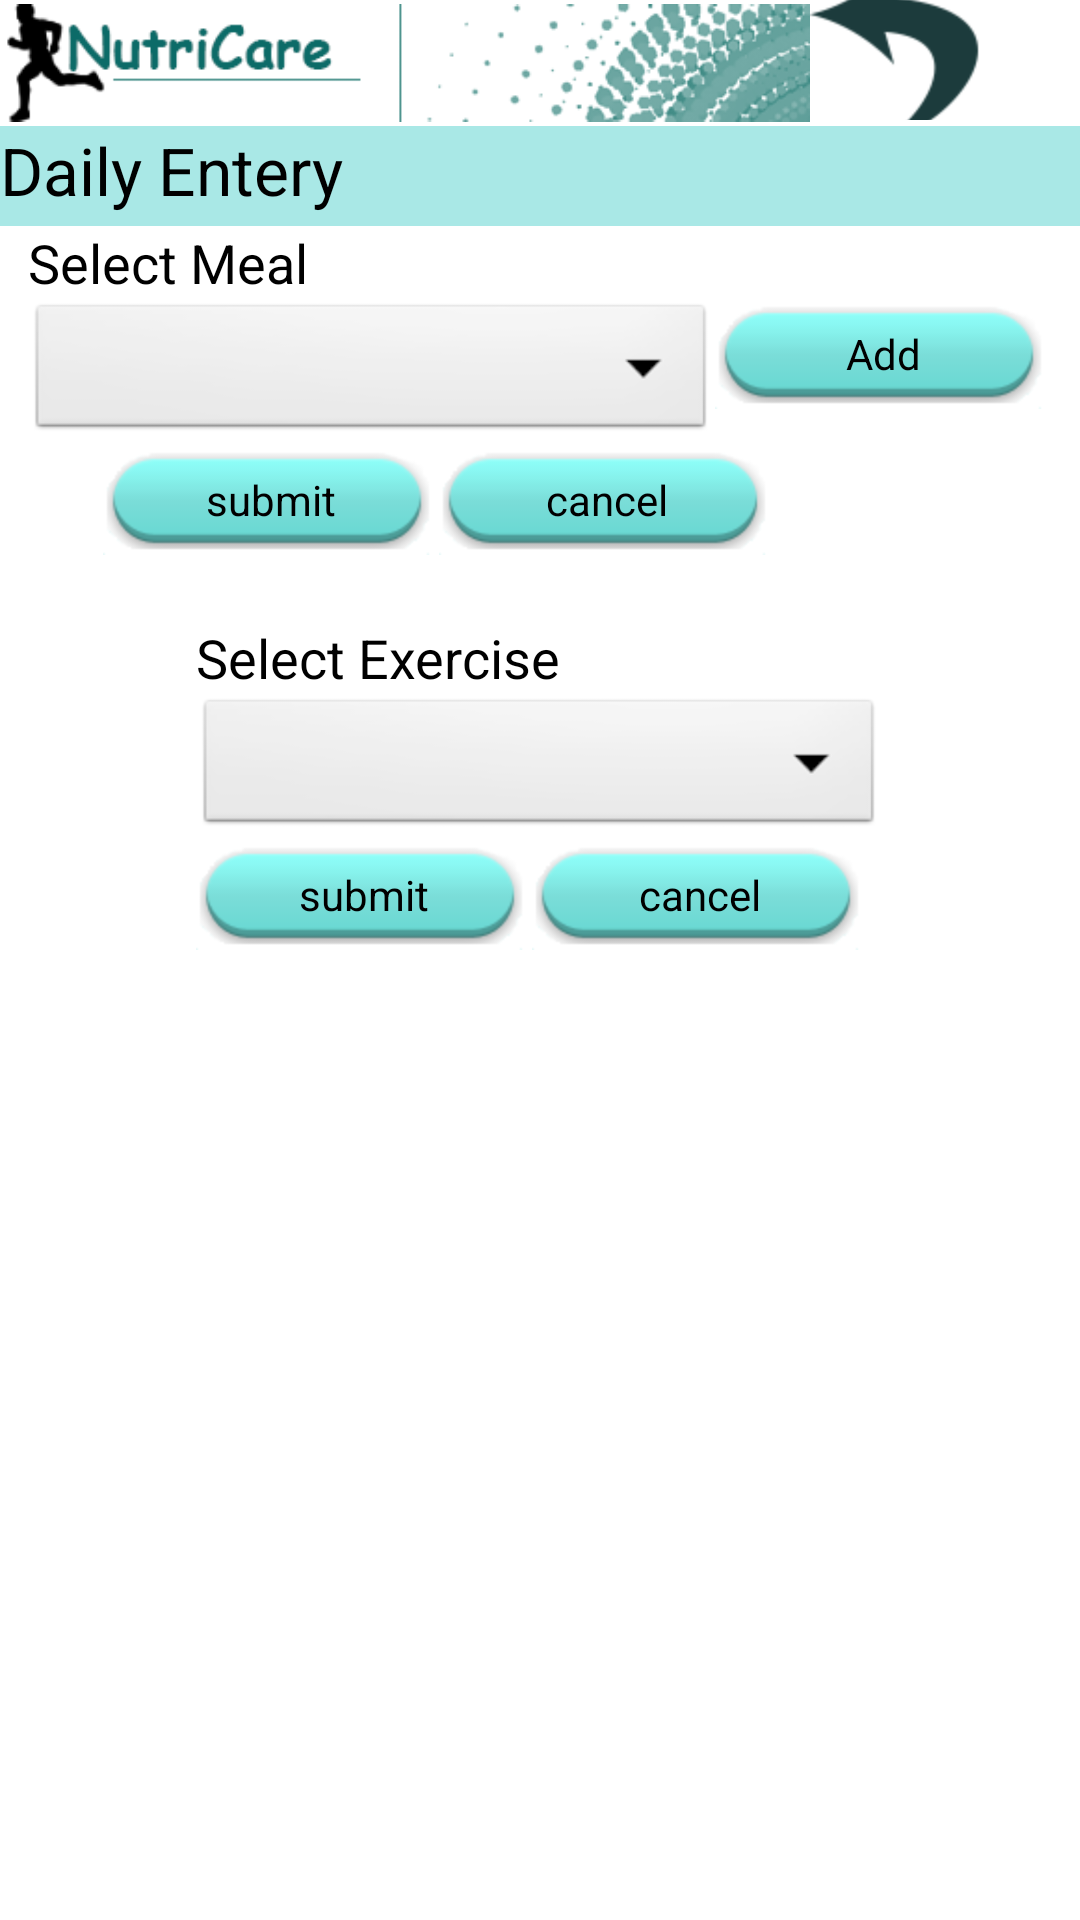

Icons on this 1080w x 1920h Android screen, each with the point to tap as [x,y]:
back: [894,60]
